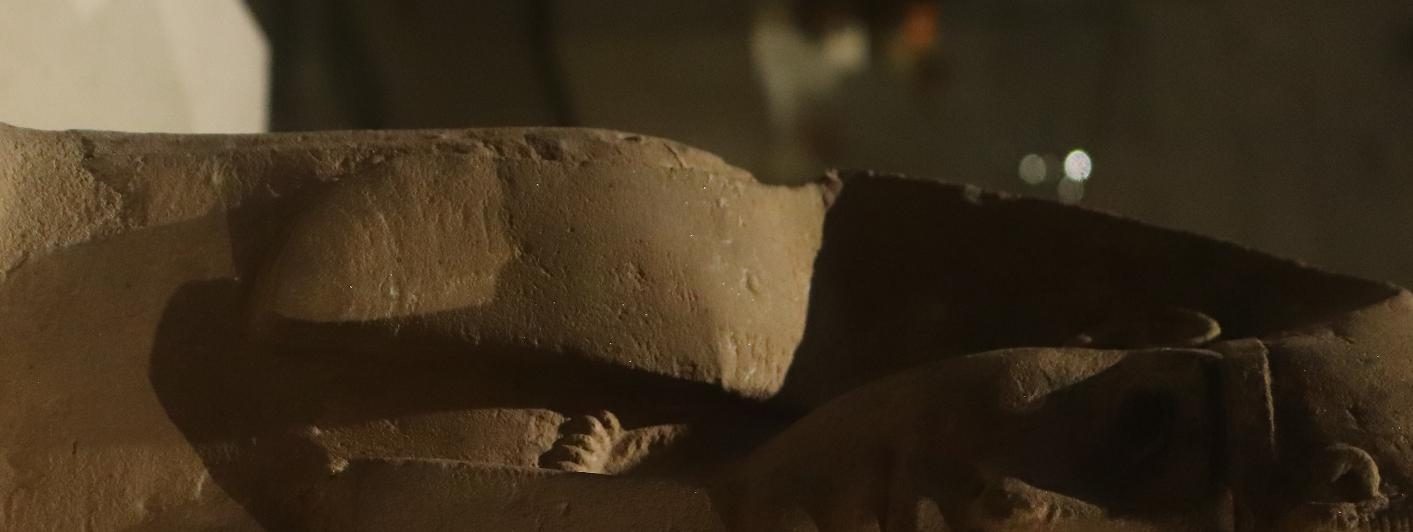statue_ofthe_sphinx: (0, 0, 853, 532)
